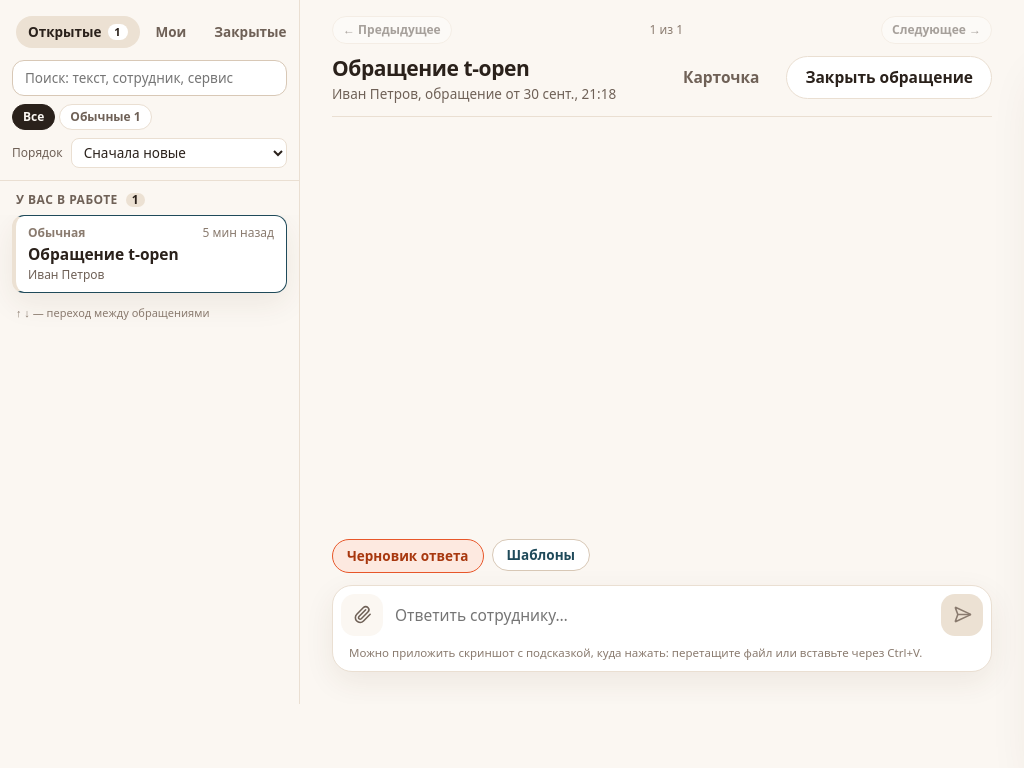
reply templates › explains where templates come from when there are none
Click the button "Шаблоны" at (541, 555), box [492,538,590,571]
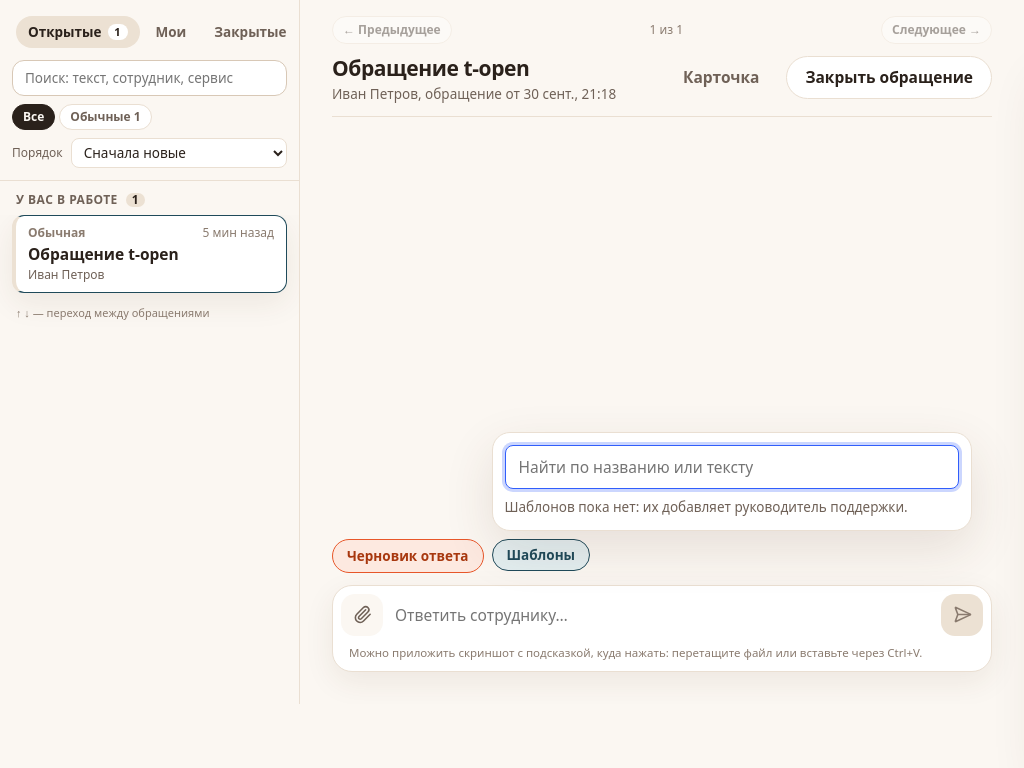
Result: the text "Шаблонов пока нет: их добавляет руководитель поддержки." is shown at [504,497,958,518]
